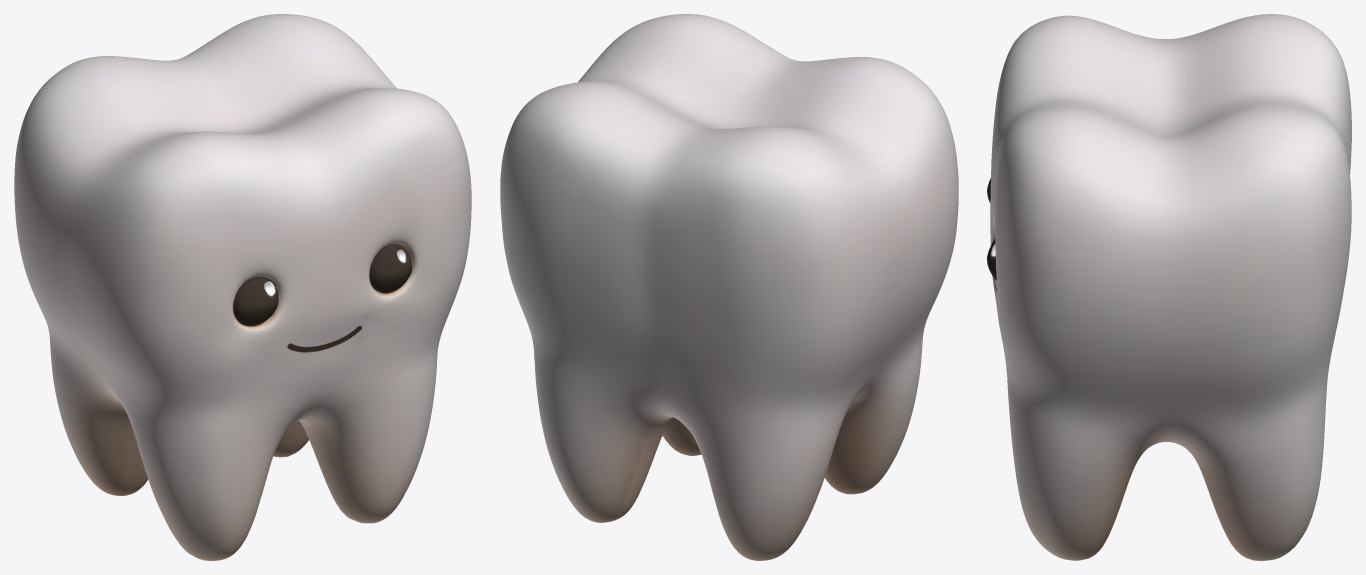
The model's file is zub.glb.
3 renders of one model, left to right at view 1: azimuth 30°, elevation 25°; view 2: azimuth 150°, elevation 25°; view 3: azimuth 270°, elevation 25°, orthographic. The views are drawn at different scales.
Visible parts, largest first — view 1: part_0000.001; view 2: part_0000.001; view 3: part_0000.001.
Part boxes in pixels (x1,y1,x2,y2): part_0000.001: (14, 14, 471, 560); part_0000.001: (500, 14, 958, 560); part_0000.001: (987, 14, 1351, 560).
Bounding box in the file's own units: 0.8596 × 0.9557 × 0.7146.
Materials: 1 (1 with a texture image).
